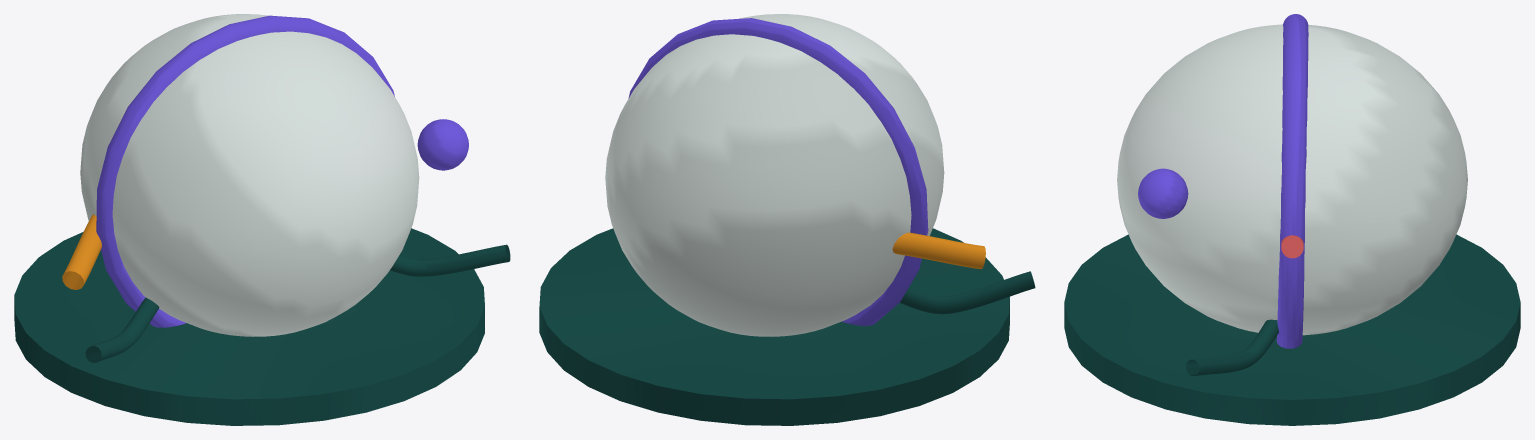
The model's file is 0410_微生物图鉴_光学显微镜.glb.
3 views of the same model, side by side, from view 1: azimuth 30°, elevation 25°; view 2: azimuth 150°, elevation 25°; view 3: azimuth 270°, elevation 25° (orthographic). The views are drawn at different scales.
Parts seen in each view (by area): view 1: card_0410; view 2: card_0410; view 3: card_0410.
Boxes of the visible parts, left/top/right/bottom form: card_0410: left=14, top=14, right=510, bottom=425; card_0410: left=539, top=14, right=1035, bottom=425; card_0410: left=1064, top=14, right=1520, bottom=425.
Size of the model in its own units: 1.41 by 1 by 1.34.
